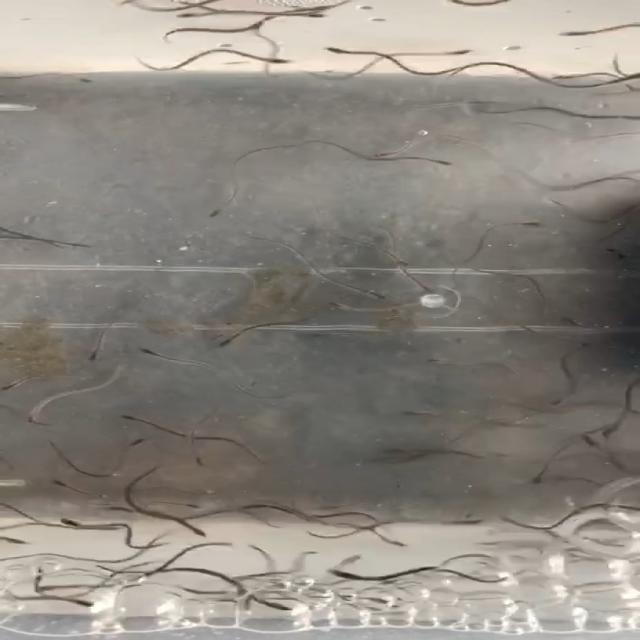active_glass_eel: (242, 50, 292, 68), (368, 140, 418, 158), (52, 70, 96, 87), (213, 332, 248, 352), (290, 7, 327, 25), (323, 565, 367, 580), (257, 599, 305, 612), (171, 7, 218, 20), (507, 218, 549, 232), (544, 390, 578, 407), (318, 43, 362, 56), (377, 533, 411, 549), (208, 202, 241, 218), (418, 153, 458, 166), (80, 348, 107, 367), (397, 405, 431, 420), (322, 297, 361, 310), (433, 49, 475, 61), (357, 287, 393, 301), (580, 430, 606, 449), (555, 28, 599, 39), (596, 423, 628, 438), (179, 526, 213, 540), (129, 346, 165, 359), (0, 374, 22, 395), (416, 354, 454, 366), (22, 409, 47, 427), (59, 517, 93, 530), (526, 472, 556, 486), (413, 283, 438, 299), (116, 412, 152, 423), (0, 533, 36, 544), (192, 454, 219, 468), (381, 444, 412, 456), (178, 498, 208, 510), (555, 314, 580, 327), (49, 476, 69, 492), (29, 584, 69, 592), (390, 254, 416, 266), (126, 434, 150, 446)
